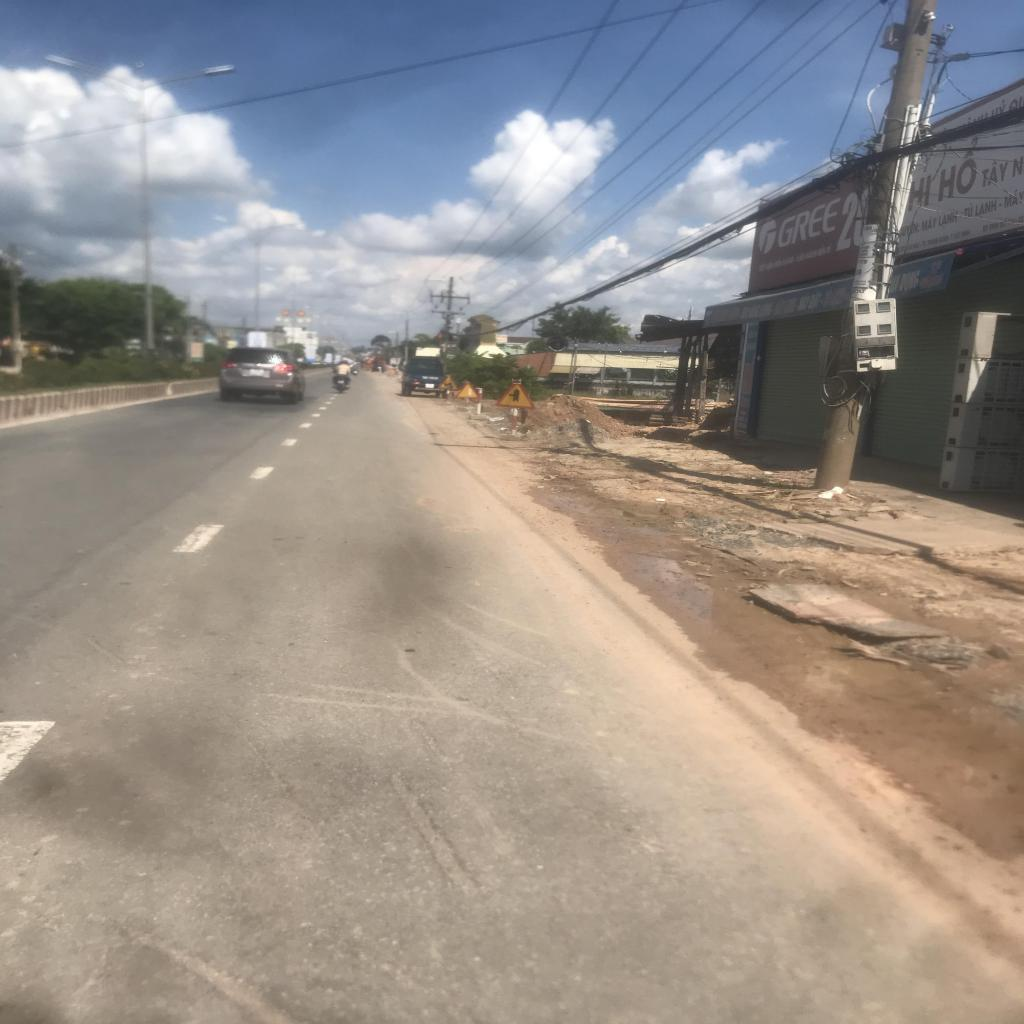cho_ngoat_nguy_hiem_lien_tiep: (434, 374, 458, 392)
giao_nhau_voi_duong_khong_uu_tien: (492, 378, 537, 410)
khac: (454, 380, 481, 398)
